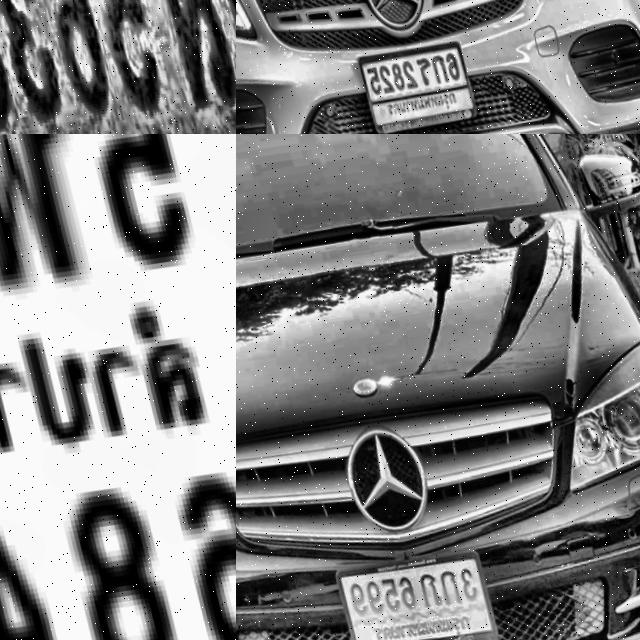license-plate: (0, 134, 236, 640), (0, 0, 236, 134), (313, 537, 495, 640), (345, 36, 467, 128)
